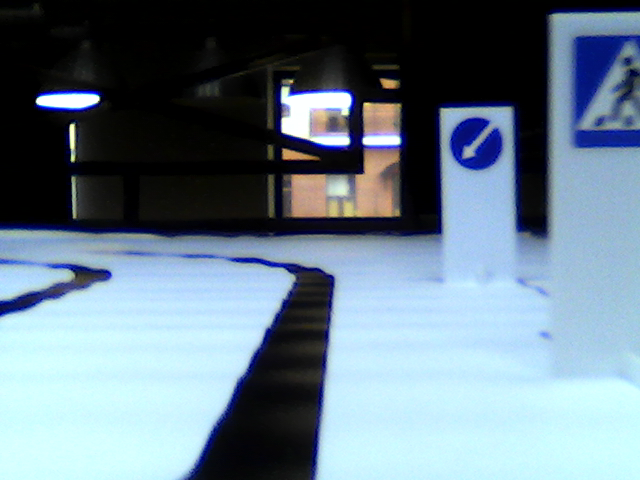pesh: (570, 31, 640, 151)
prep: (450, 115, 503, 168)
